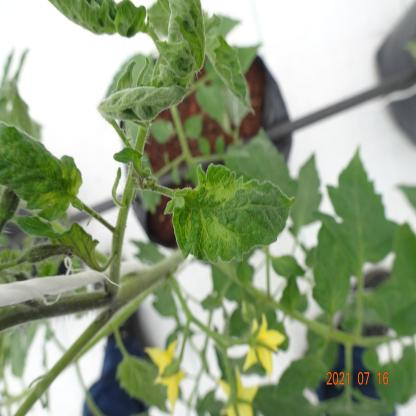T_L_H: (329, 151, 398, 277), (314, 225, 351, 318)
T_L_R: (166, 164, 294, 263), (1, 122, 83, 222), (157, 1, 206, 79), (207, 36, 254, 112), (98, 85, 189, 122), (58, 223, 105, 272), (51, 1, 117, 34)
